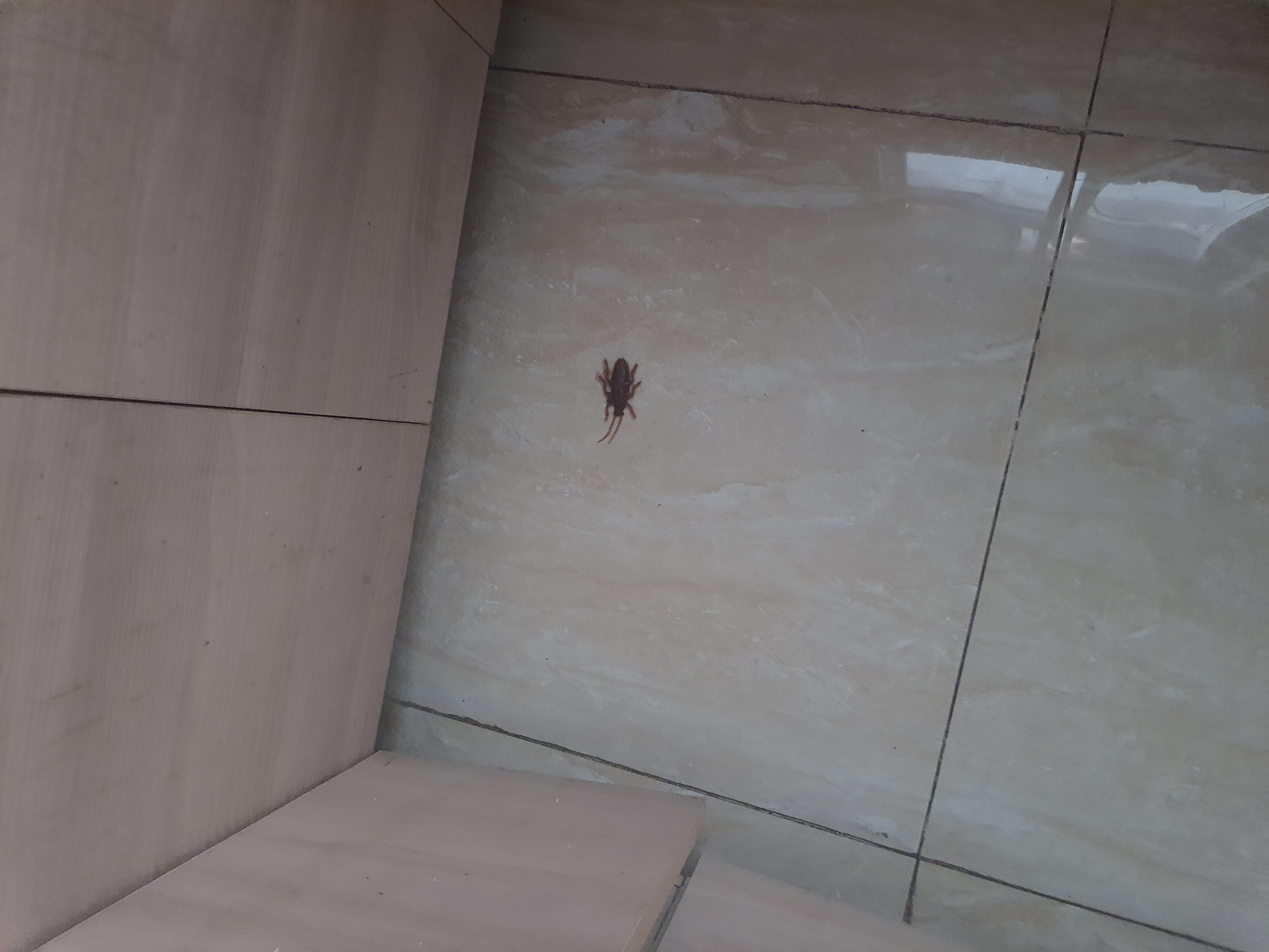cockroach: (660, 429, 808, 499)
